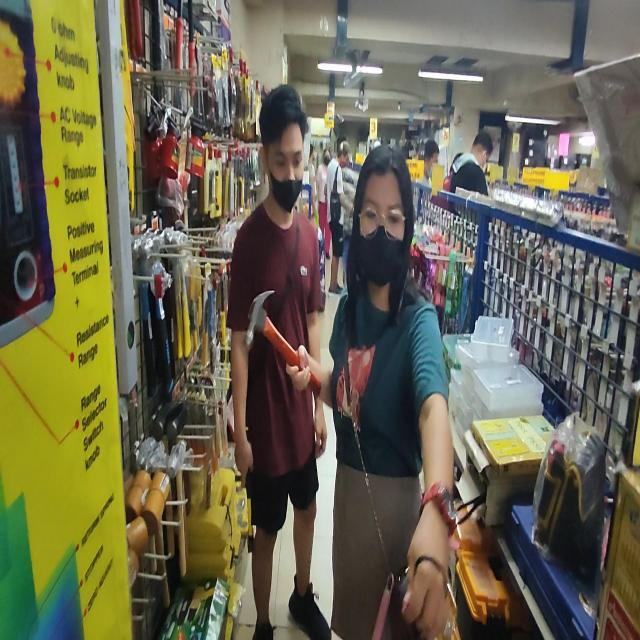hammer: (246, 290, 322, 395), (246, 427, 254, 553)
